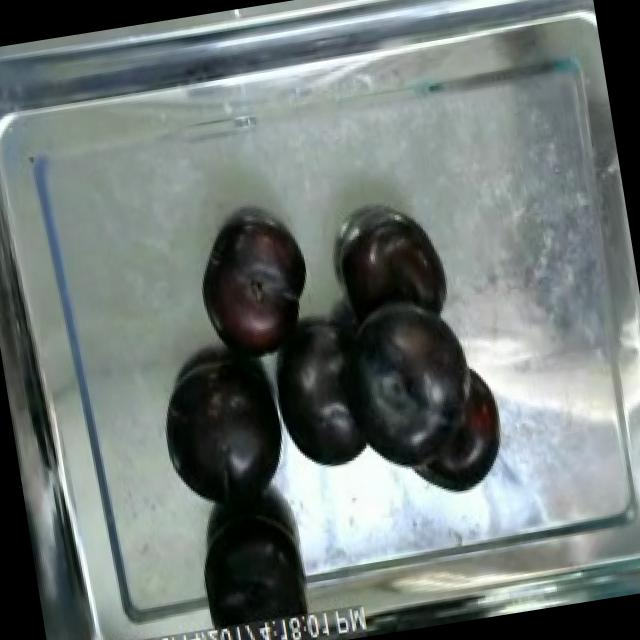Fruit: (148, 342, 300, 532), (183, 205, 328, 378), (326, 206, 456, 336)
